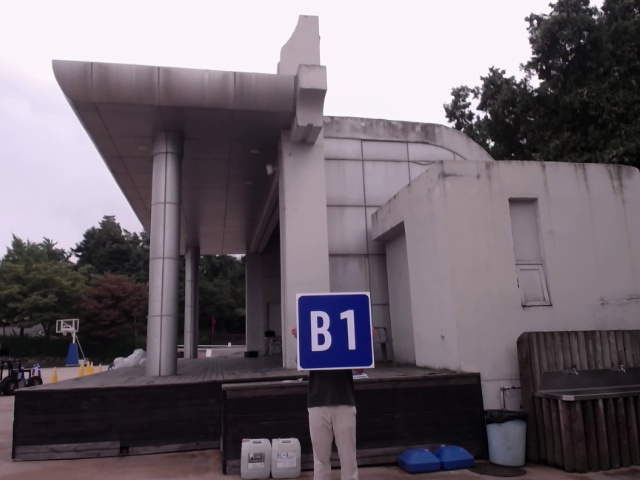delivery_b1: (297, 293, 374, 370)
